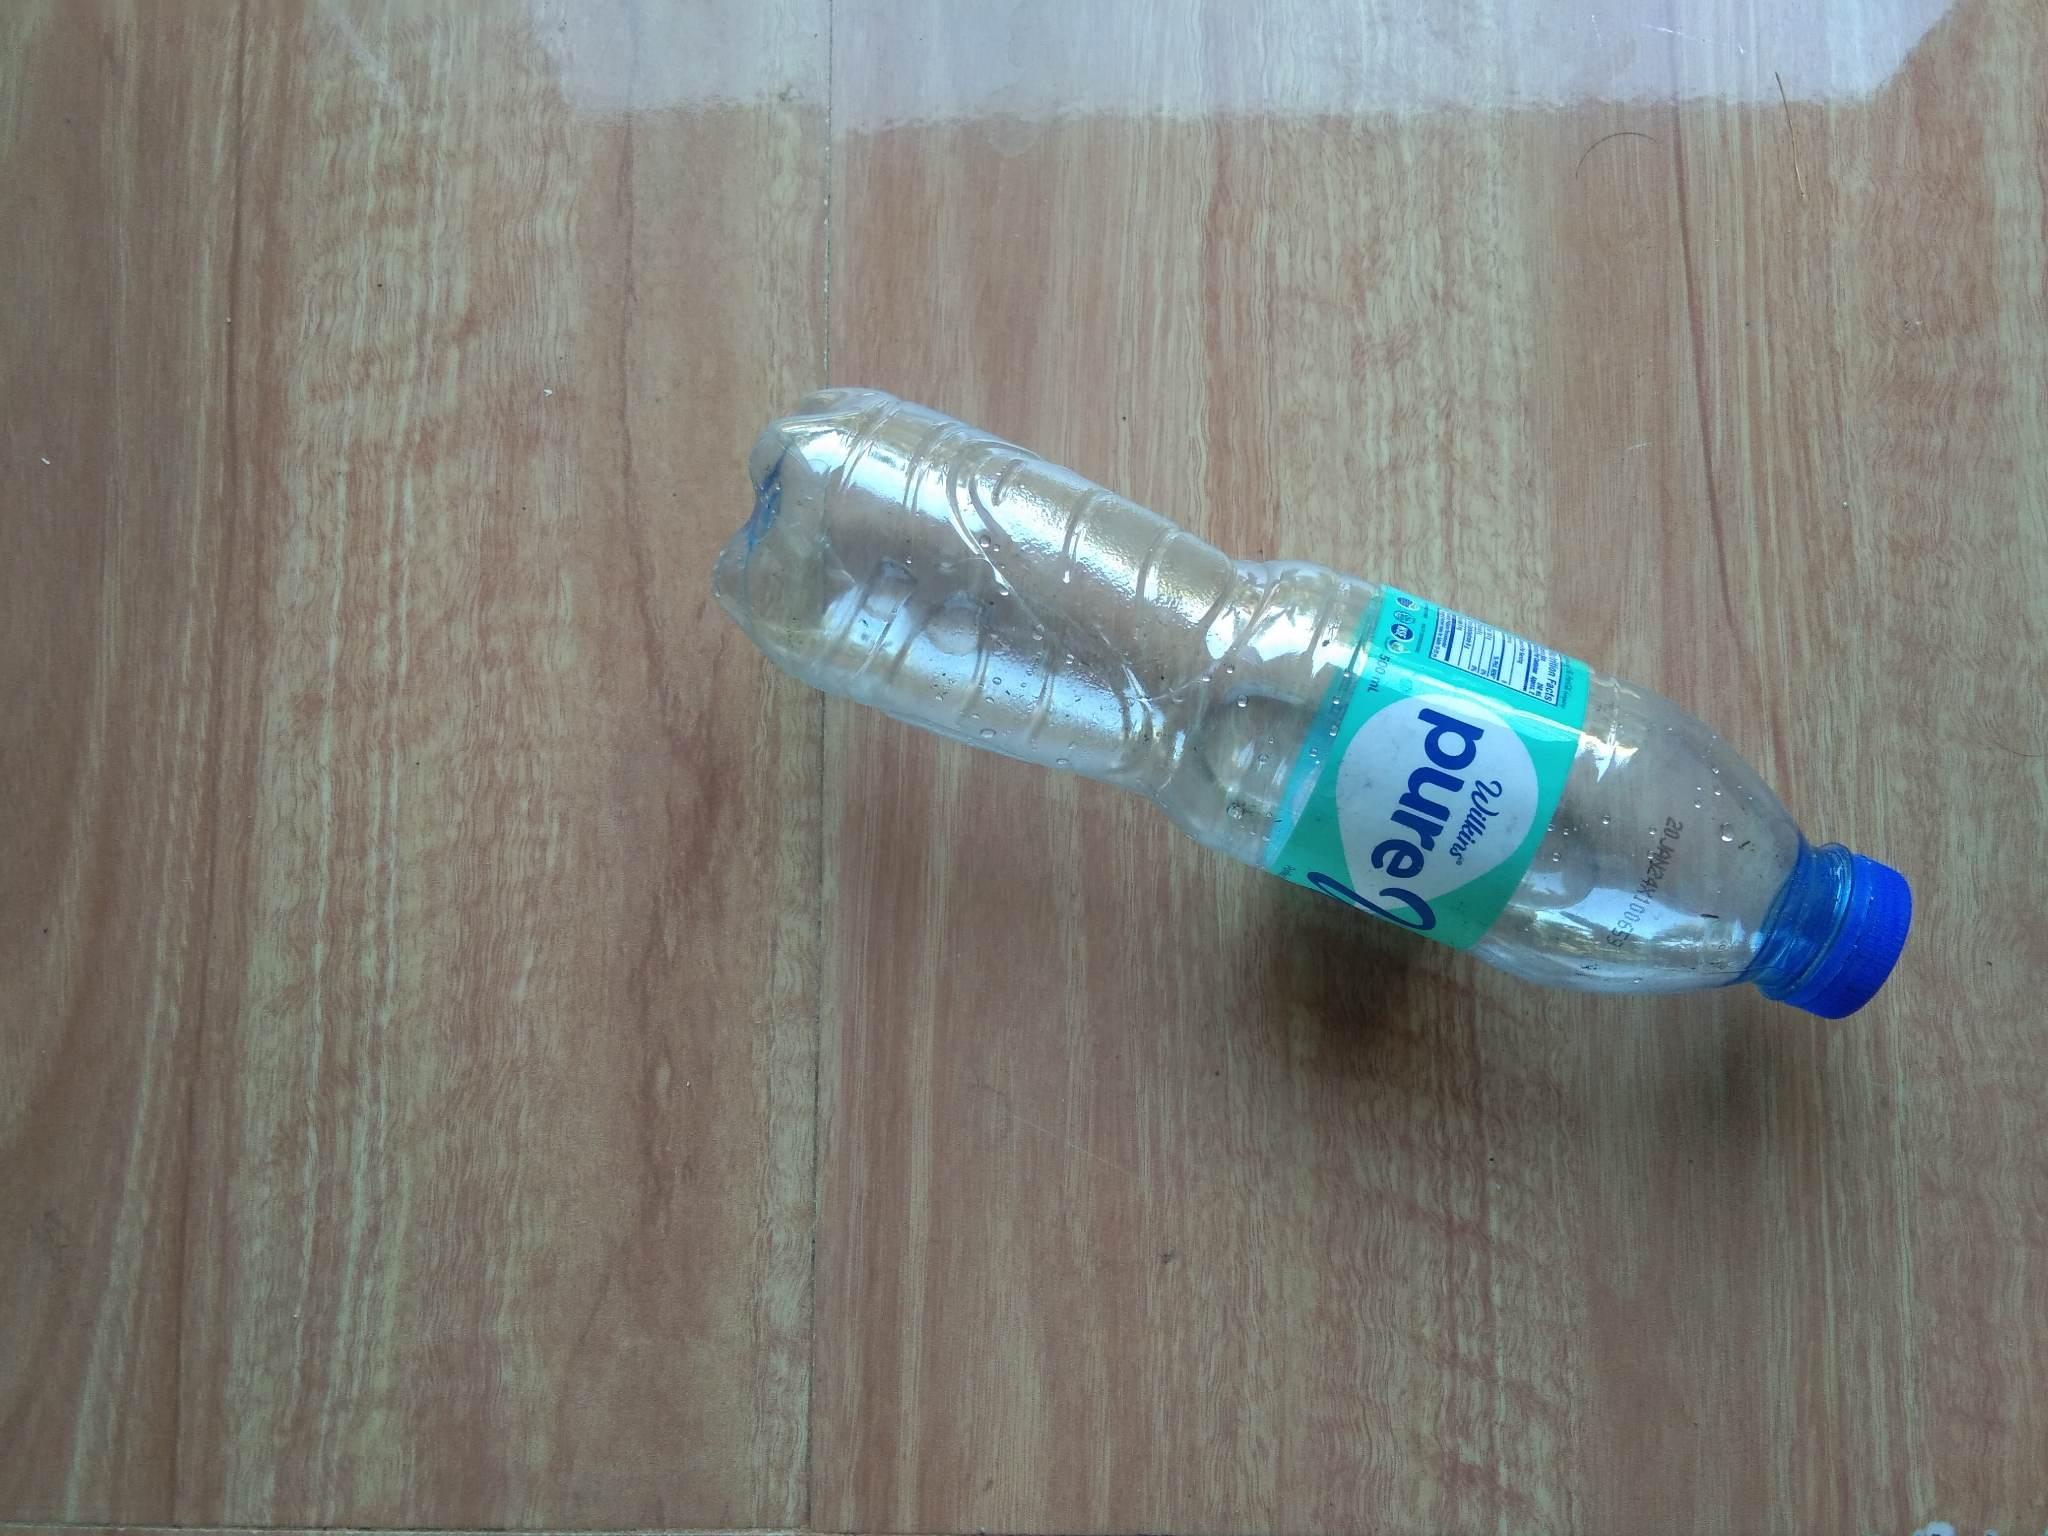plastic: (598, 332, 1985, 1133)
